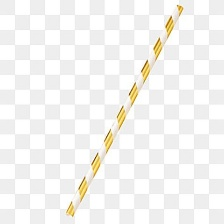drinking_straw: (59, 1, 188, 221)
